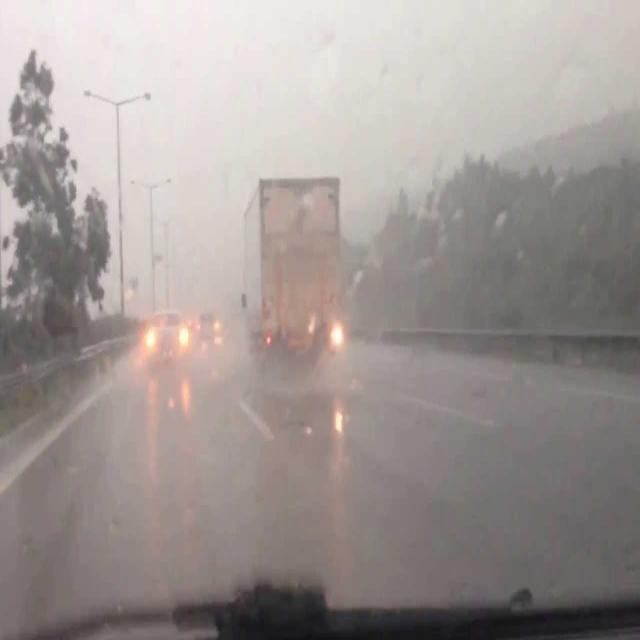bus: (239, 180, 347, 372)
car: (142, 303, 192, 363), (194, 308, 220, 340)
